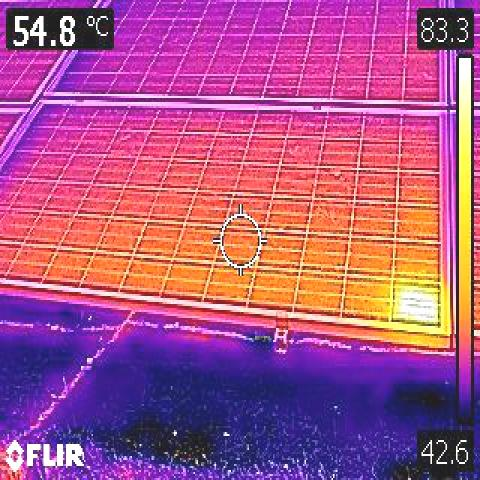fault: (396, 283, 439, 322)
